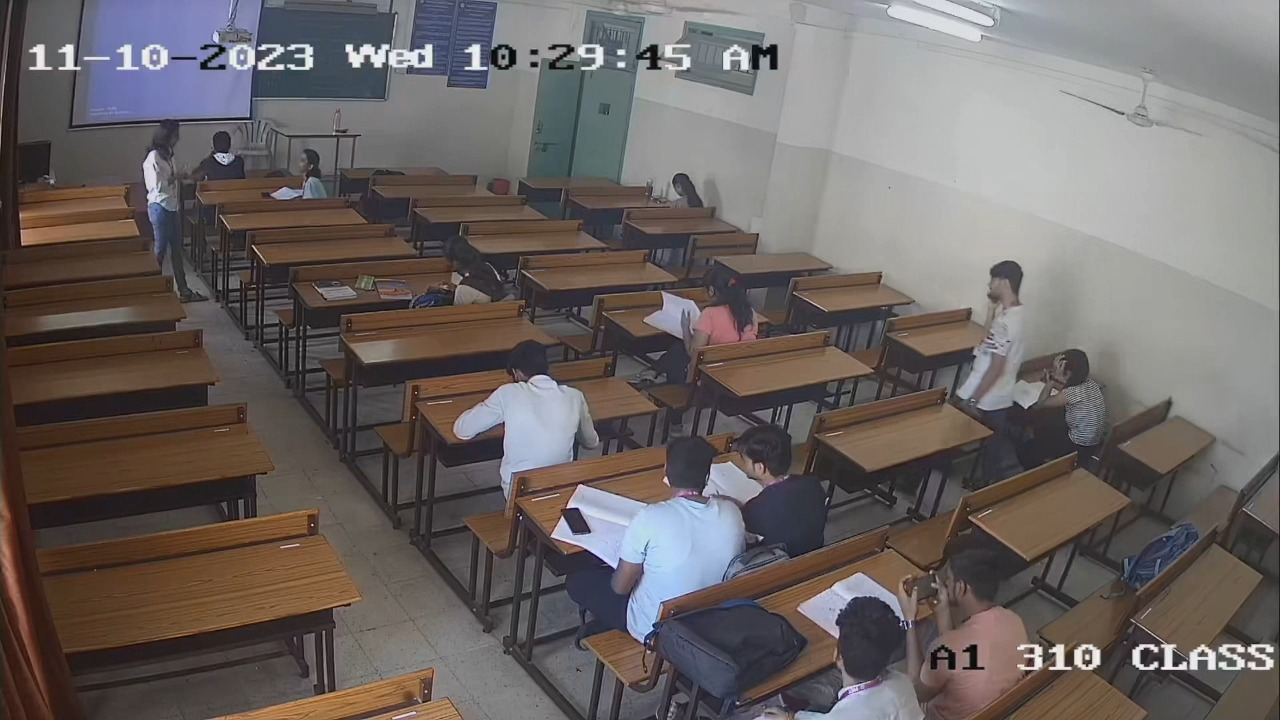cell-phones: (899, 571, 943, 604), (560, 506, 593, 536)
person: (612, 432, 749, 617), (909, 545, 1030, 670)
